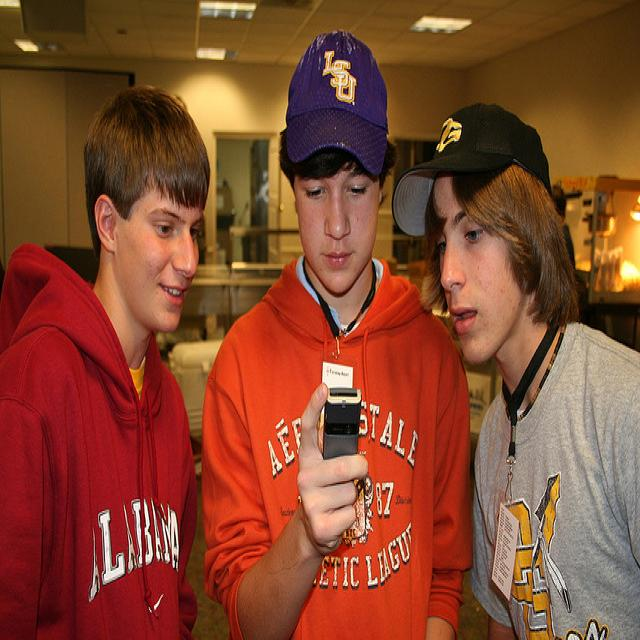phone: (322, 384, 364, 494)
